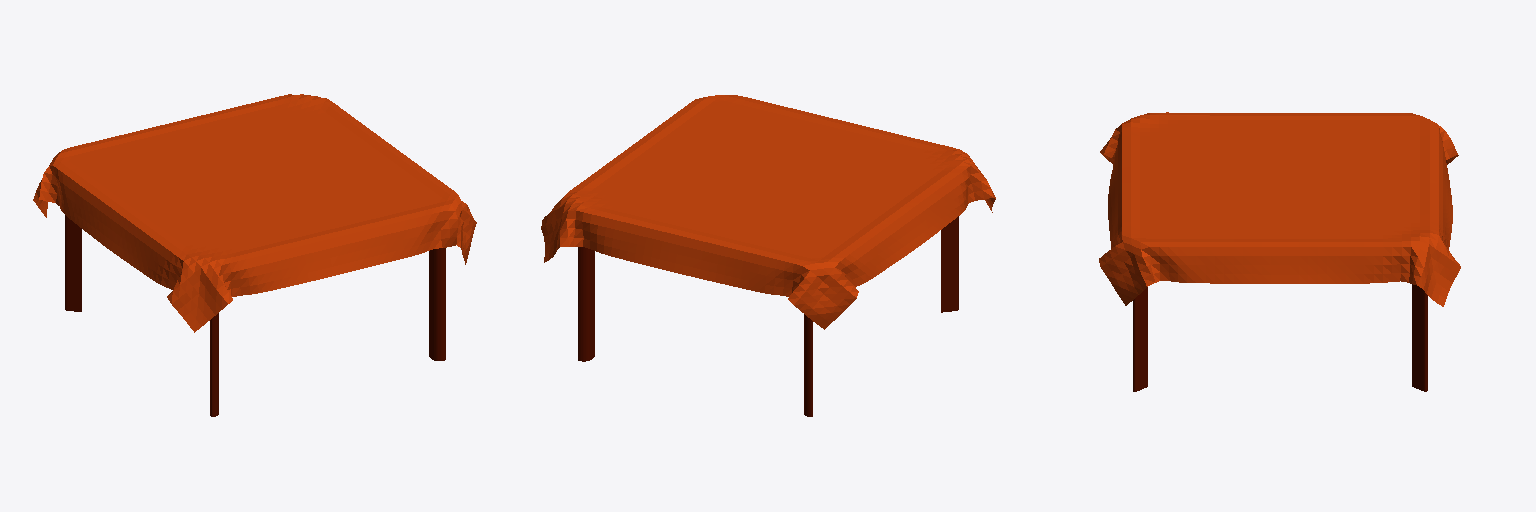
Rendered from TableCloth.obj.
3 renders of one model, left to right at view 1: azimuth 30°, elevation 25°; view 2: azimuth 150°, elevation 25°; view 3: azimuth 270°, elevation 25°, orthographic.
Visible parts, largest first — view 1: Cloth_Table, Table_Table.001; view 2: Cloth_Table, Table_Table.001; view 3: Cloth_Table, Table_Table.001.
Boxes of the visible parts, box(x1,y1,x2,y2) form: Cloth_Table: box(33, 94, 476, 332); Table_Table.001: box(65, 215, 445, 416); Cloth_Table: box(541, 95, 995, 329); Table_Table.001: box(578, 216, 958, 416); Cloth_Table: box(1099, 112, 1460, 306); Table_Table.001: box(1133, 284, 1427, 391).
Bounding box in the file's own units: 4.63 × 2.22 × 4.63.